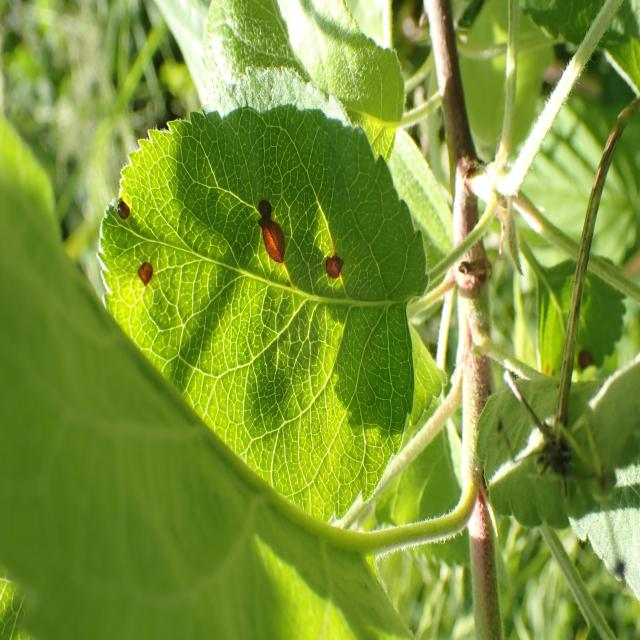Black Rot: (244, 180, 298, 282), (310, 247, 352, 292), (568, 338, 606, 387), (125, 256, 169, 296), (106, 199, 138, 224)
